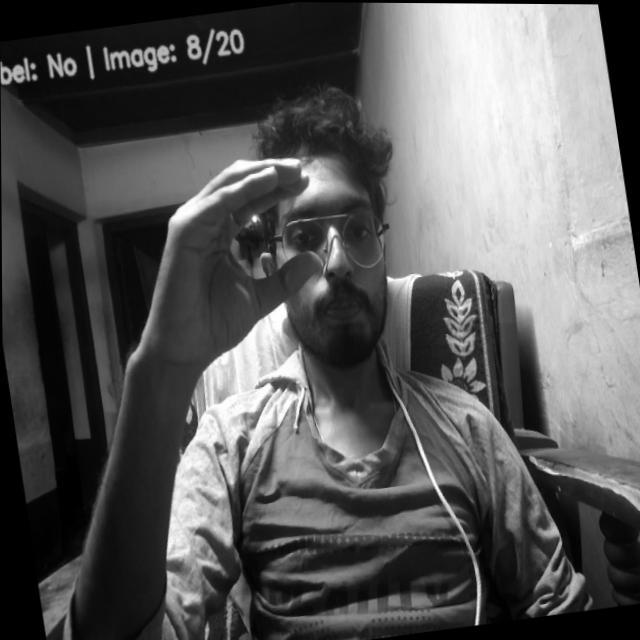No: (130, 144, 342, 411)
